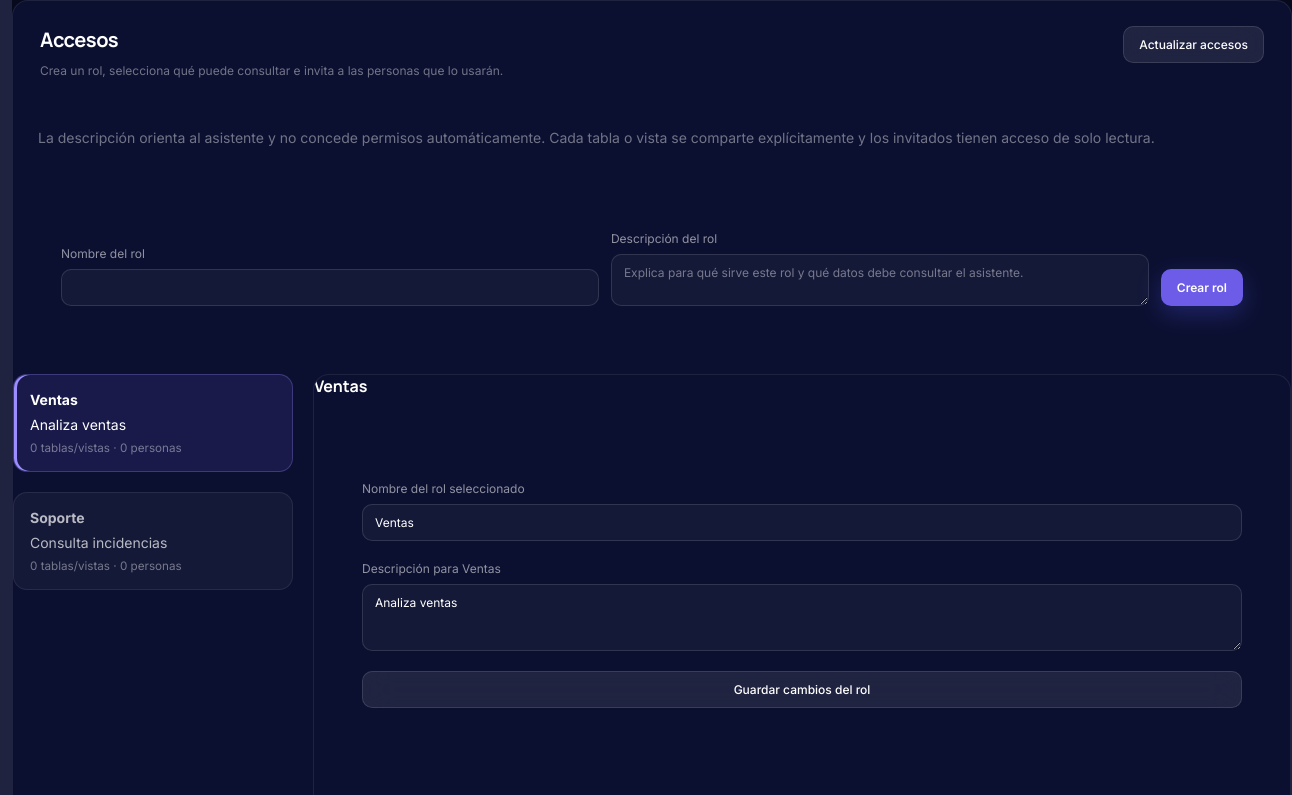
Test case: muestra solo el detalle del rol seleccionado
Click the button with aria-label "Seleccionar rol Soporte" at (153, 541), box top-left (13, 492), bottom-right (293, 590)
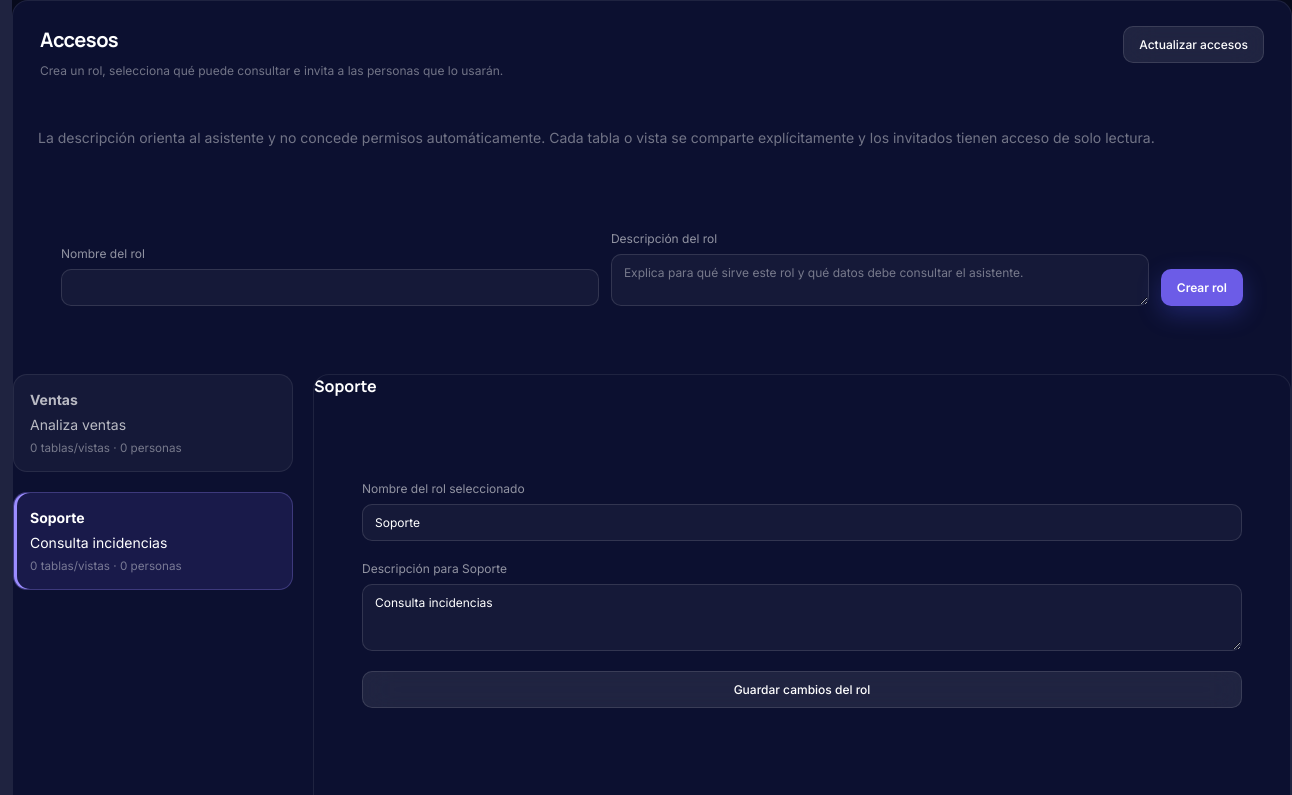
Now the text box labelled "Descripción para Soporte" holds "Consulta incidencias", box top-left (362, 584), bottom-right (1242, 651)
